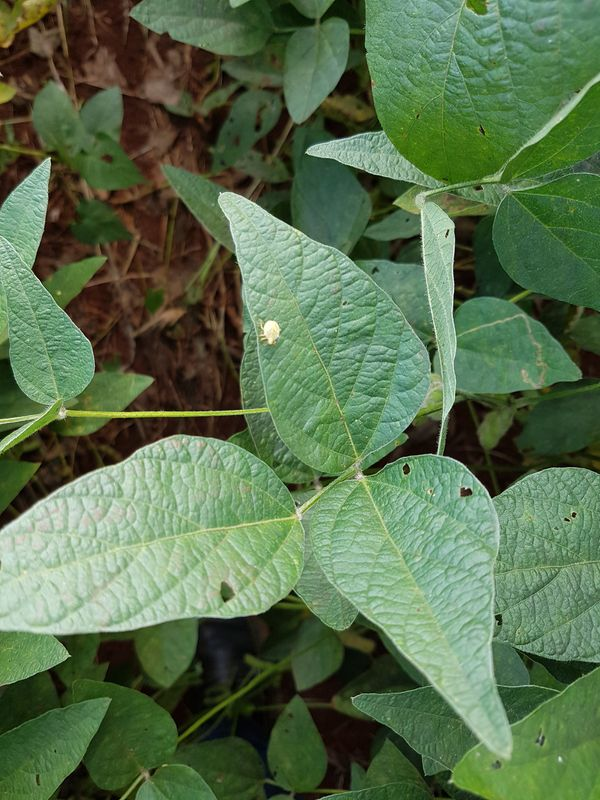Euschistus_heros_ninfa: (252, 315, 288, 349)
